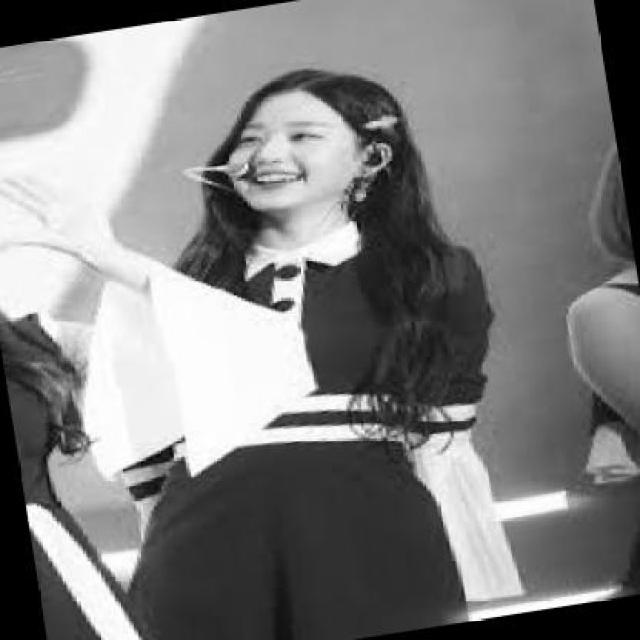earphone: (357, 142, 399, 192)
